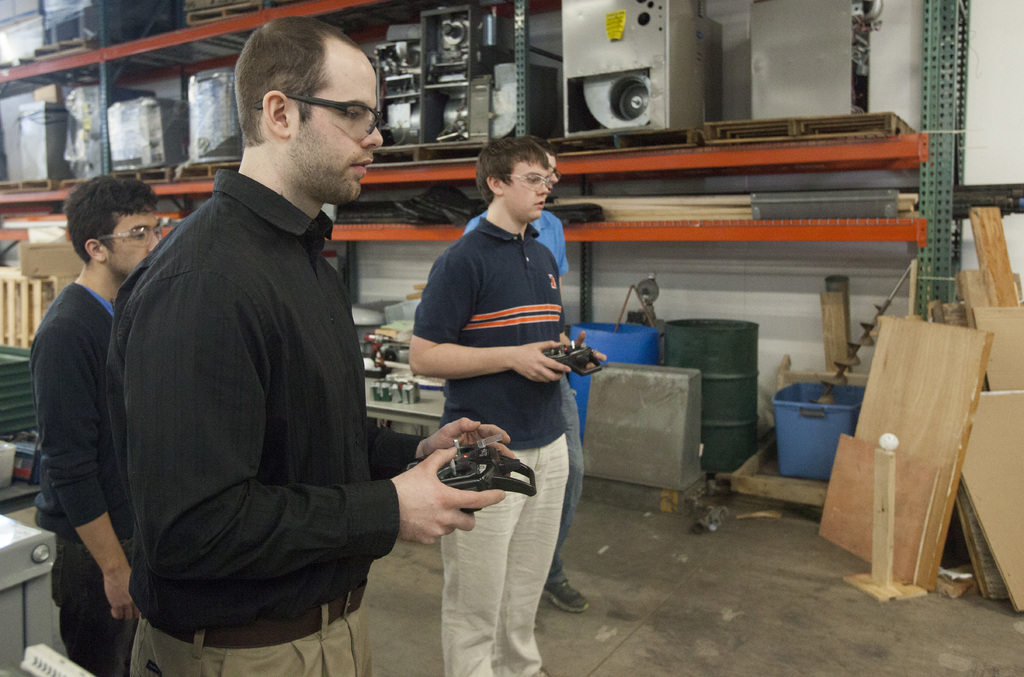Human_hand: (370, 426, 508, 558), (422, 412, 517, 478), (512, 340, 573, 386), (102, 564, 143, 624), (567, 330, 608, 373)
